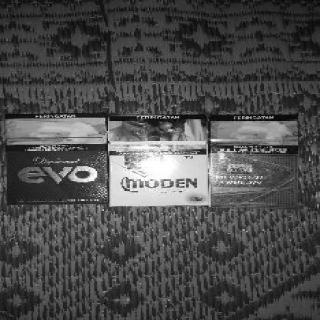objects: (4, 113, 108, 205), (106, 115, 208, 206), (208, 115, 298, 209)
